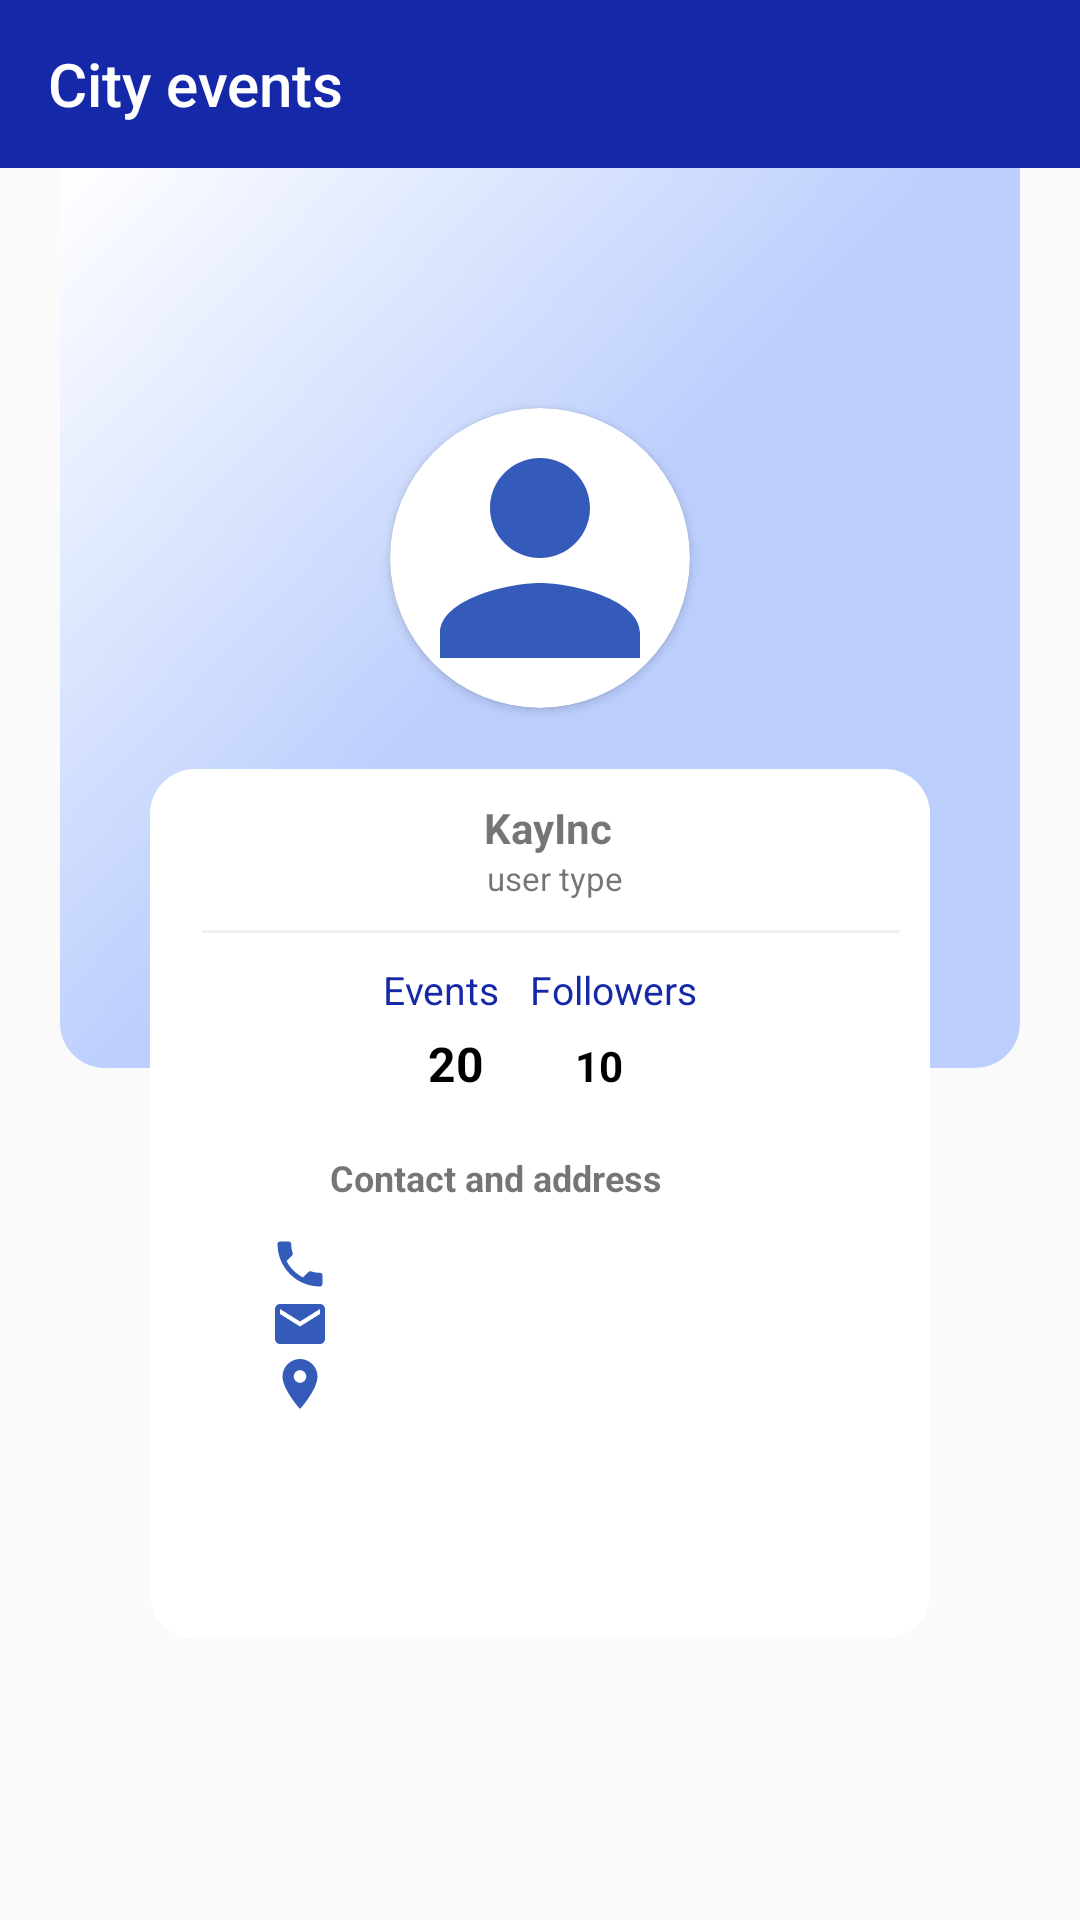

Icon bounding boxes for this 1080*1920 phone screenshot, format (x1, y1, x2, y2):
email: (275, 1304, 325, 1344)
local phone: (277, 1241, 323, 1287)
location on: (282, 1359, 318, 1409)
person: (390, 408, 690, 708)
